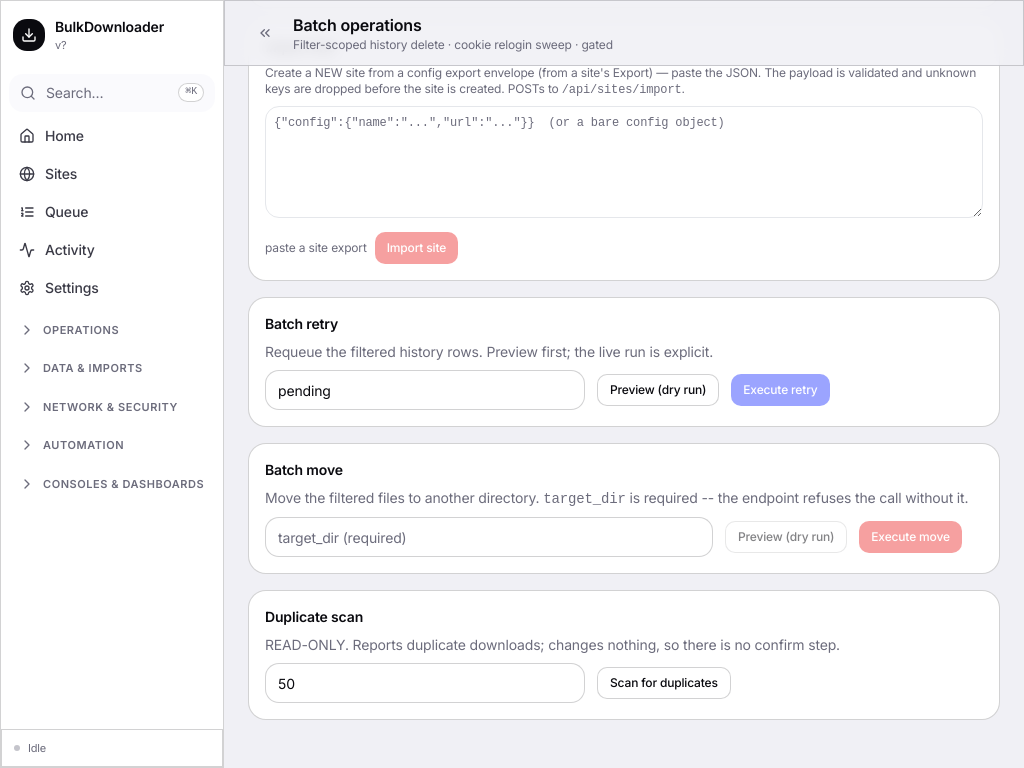
Test case: BatchOps adopts the WorkflowPage spine (Cut 7 / Track A) › enables Execute retry when preview matches candidates and disables when status changes (positive control)
(page scrolled)
Check: the button "Execute retry" is disabled, box 731,374 -> 830,406
// Click Preview (dry run) in Batch retry section (index 1 of 3)
Click the button "Preview (dry run)" below "Batch retry" at (658, 390), box 597,374 -> 719,406
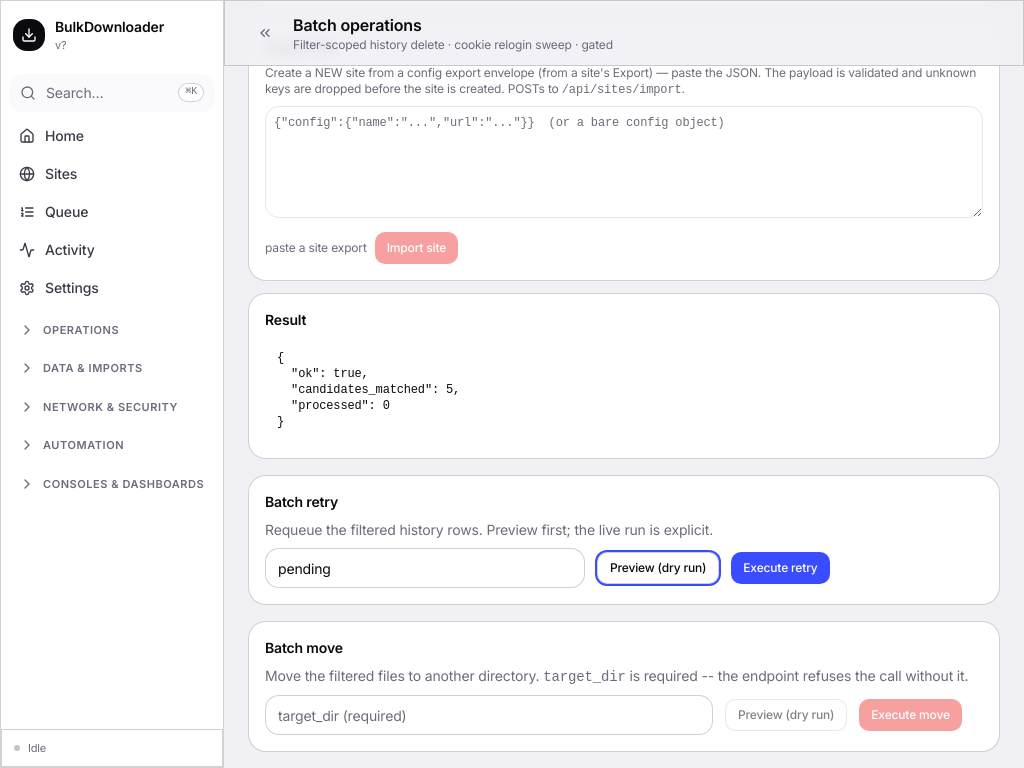
Check: the button "Execute retry" is enabled, box 731,552 -> 830,584
// Changing resetTo input should disable executeRetry again
Type "_test" into the field named "reset to status" at (425, 568), box 265,548 -> 585,588
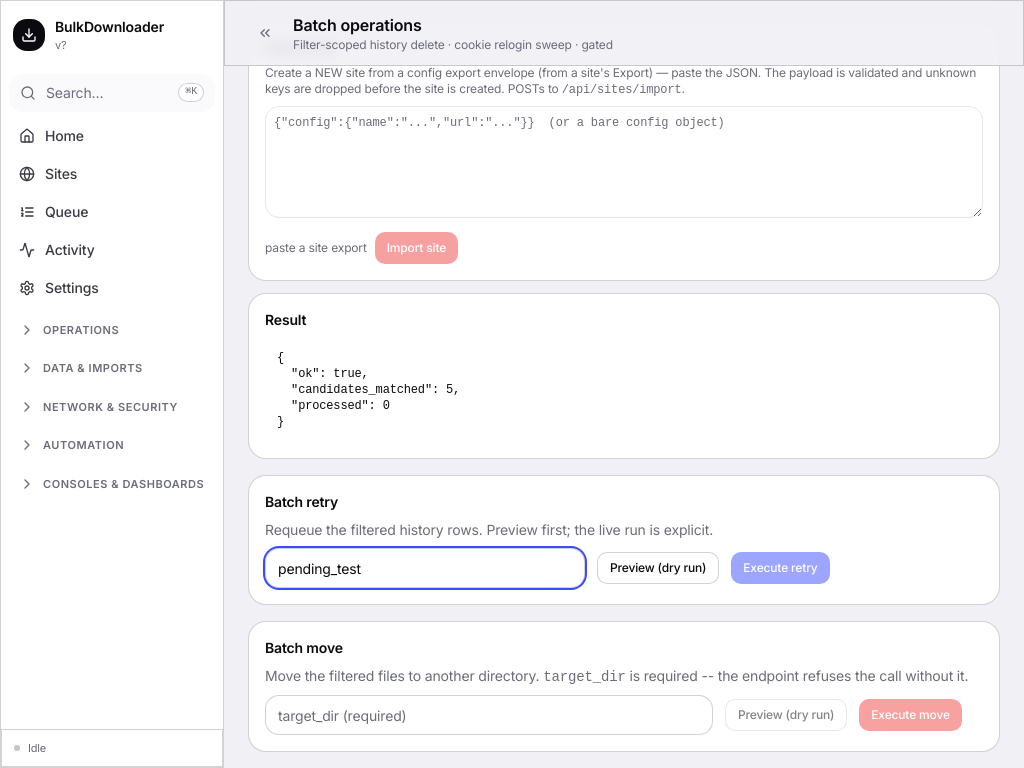
Check: the button "Execute retry" is disabled, box 731,552 -> 830,584
